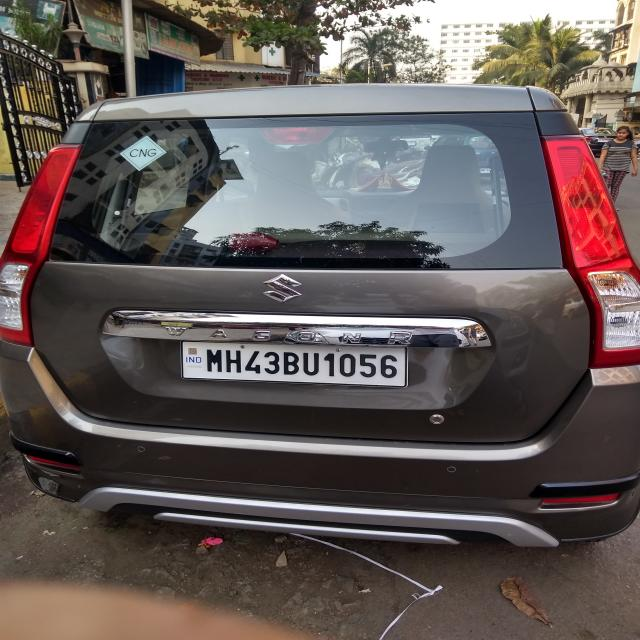Number-Plate: (179, 345, 405, 385)
